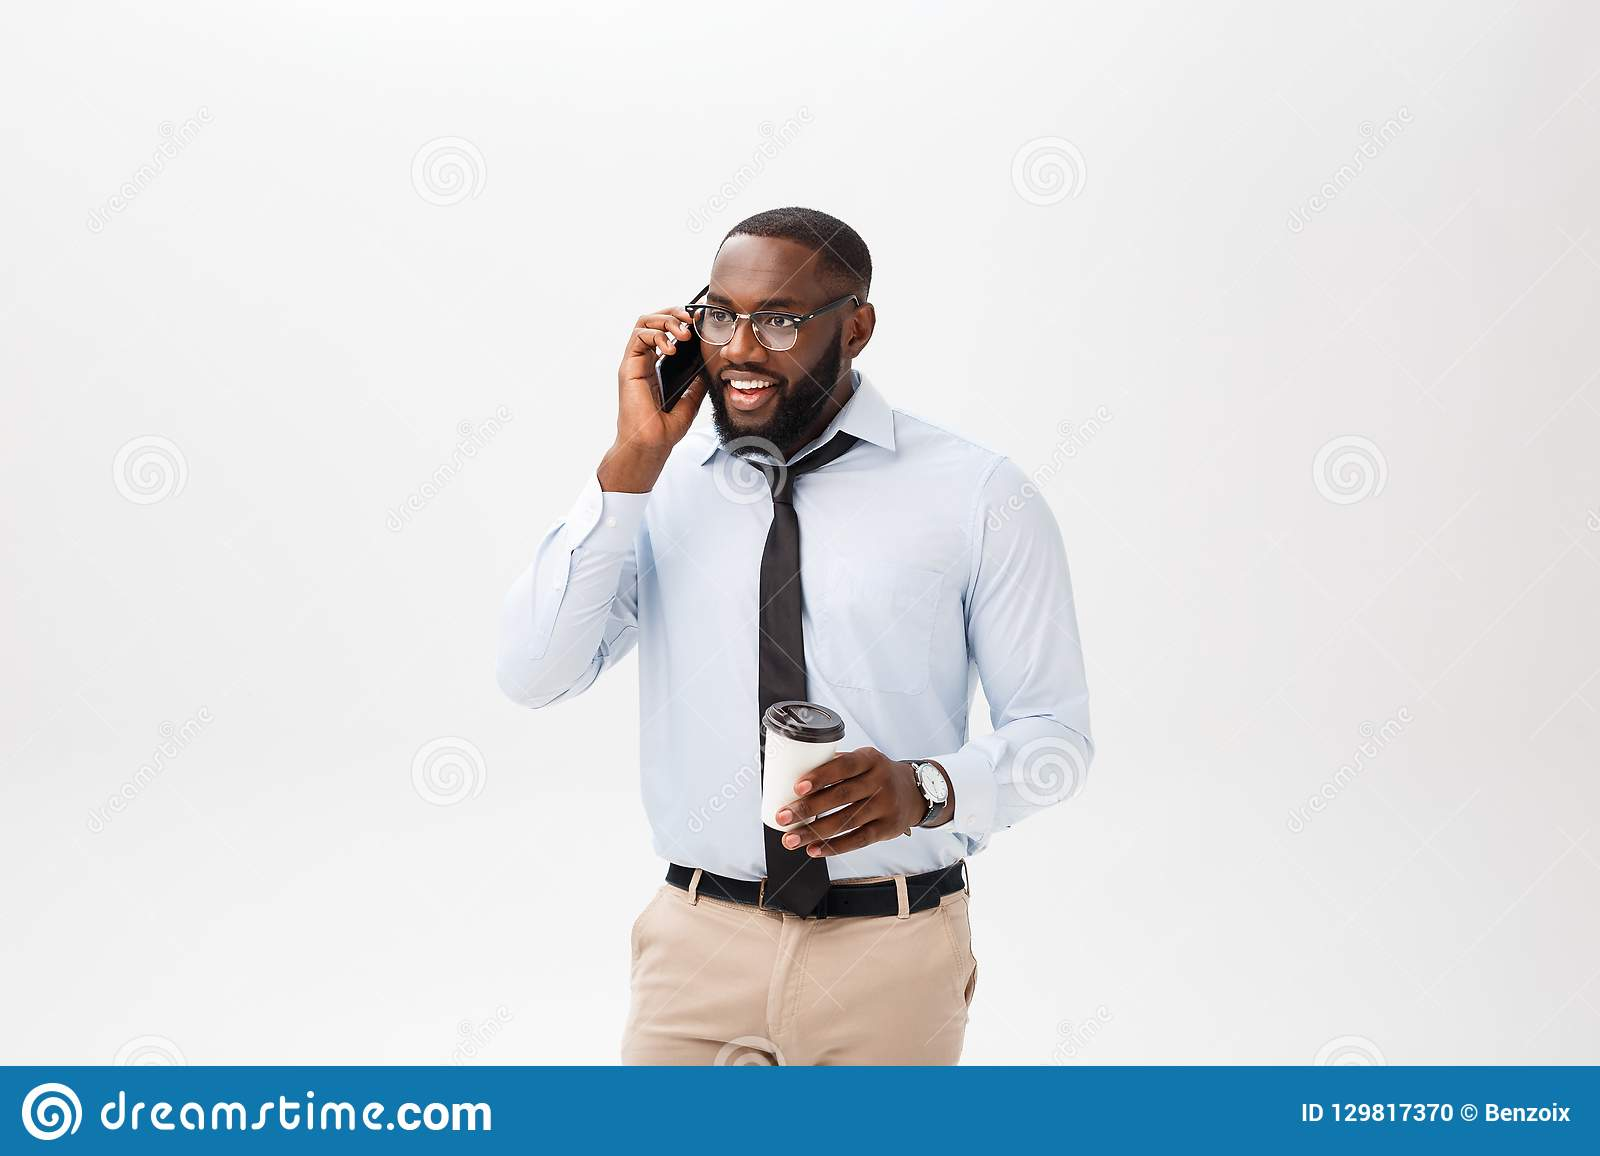phone: (657, 313, 706, 411)
talk: (612, 281, 842, 454)
